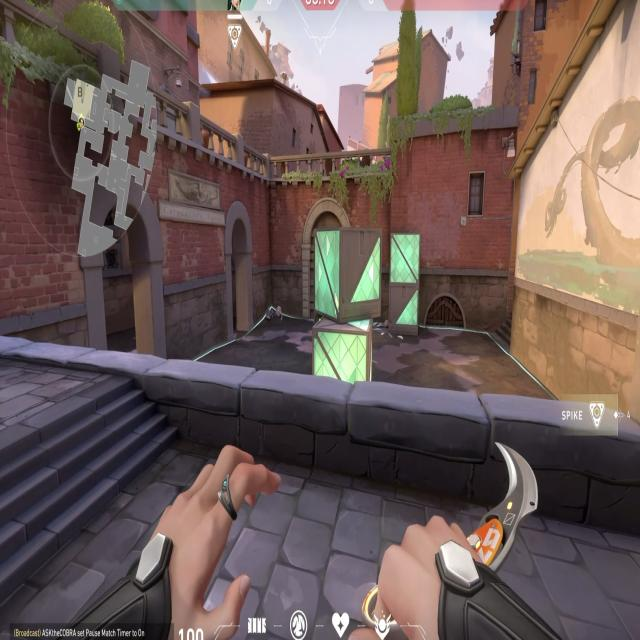B_Boathouse: (70, 162, 176, 370), (217, 194, 266, 347)
B_Site_Box: (309, 225, 381, 400)
